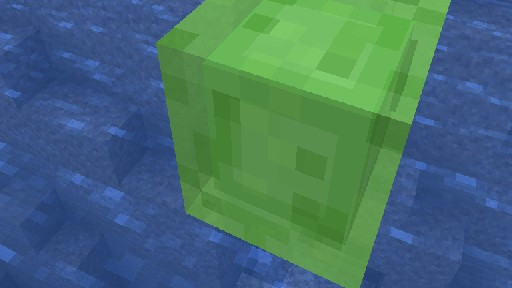slime: (155, 0, 454, 288)
